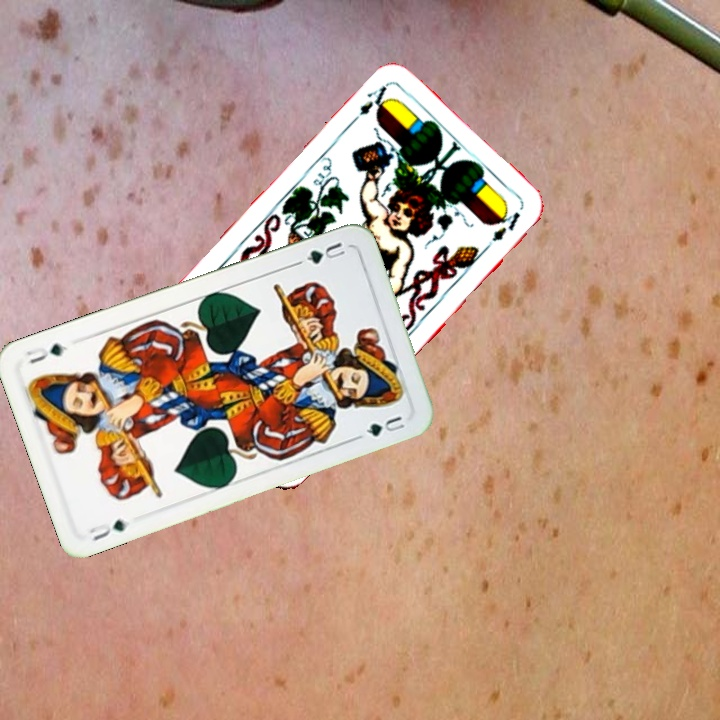EA: (345, 81, 394, 128)
GU: (293, 238, 348, 267), (85, 515, 133, 544)
